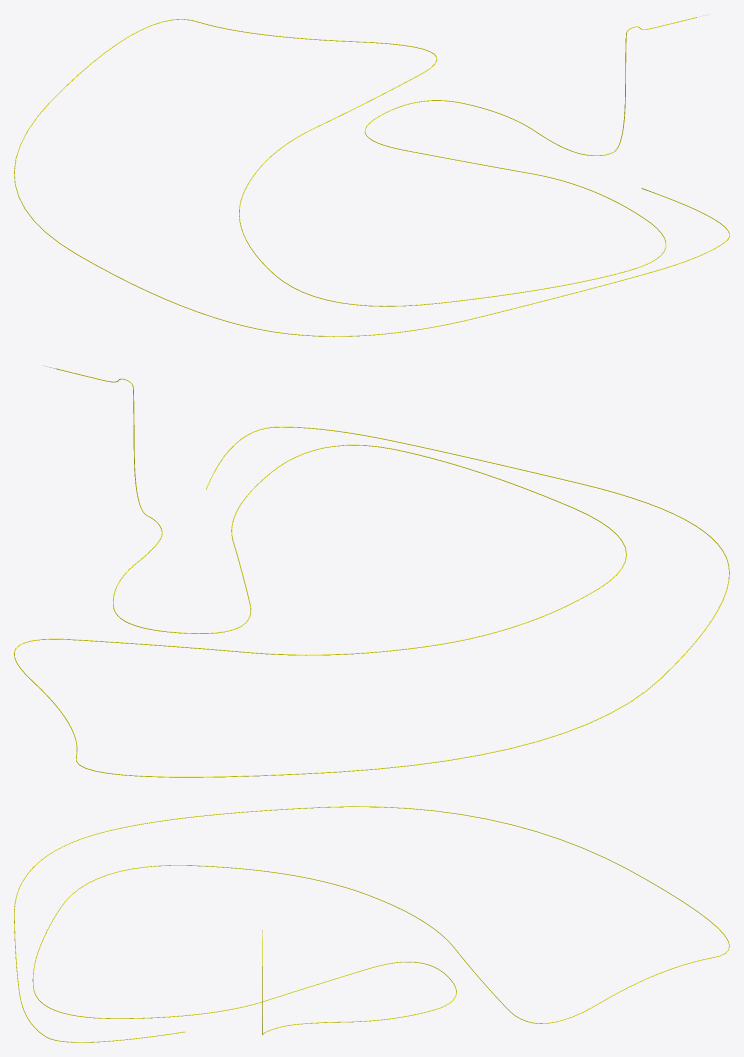
File: kabel tanpa sleeve.fbx
3 views of the same model, one above another, from view 1: azimuth 30°, elevation 25°; view 2: azimuth 150°, elevation 25°; view 3: azimuth 270°, elevation 25° (orthographic). The views are drawn at different scales.
Visible parts, largest first — view 1: kabel tanpa sleave; view 2: kabel tanpa sleave; view 3: kabel tanpa sleave.
Boxes of the visible parts, x1=… form: kabel tanpa sleave: x1=14, y1=14, x2=729, y2=336; kabel tanpa sleave: x1=14, y1=365, x2=729, y2=777; kabel tanpa sleave: x1=14, y1=806, x2=729, y2=1042.
Bounding box in the file's own units: 47.07 × 9.24 × 51.76.
